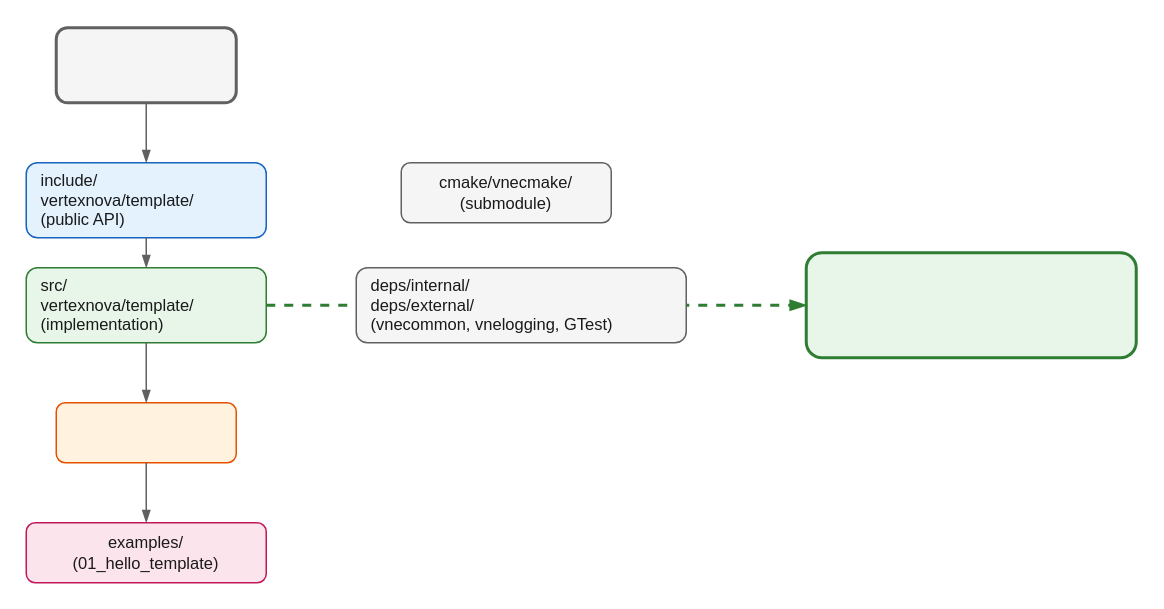
Image size: 1164x609. Some labels were removed from this diagram. Here are the shapes that lost their labels. From the top down, the centre of each, then its label:
the point at 145,65: vnetemplate/ (root)
the point at 970,304: CMake configure + build → libvnetemplate (static or shared) → tests, examples
the point at 145,432: tests/ (Google Test)
